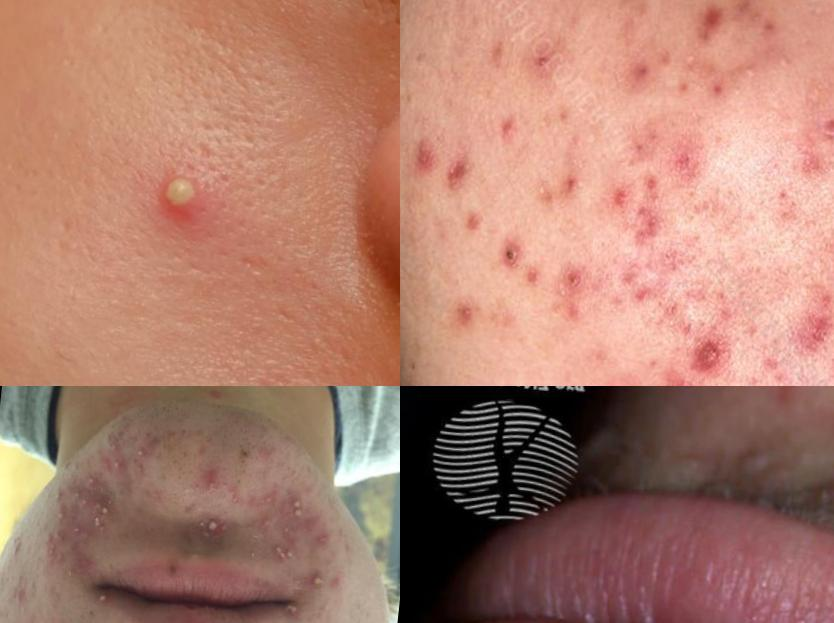papular: (597, 138, 732, 314), (518, 33, 570, 91), (761, 387, 834, 428), (791, 296, 834, 361), (683, 326, 736, 371), (436, 151, 475, 203), (809, 457, 834, 535), (556, 260, 594, 309), (409, 132, 442, 177), (493, 236, 525, 276), (654, 371, 717, 387), (328, 562, 357, 594), (77, 544, 100, 573), (255, 481, 280, 507), (201, 471, 226, 496)
purulent: (139, 149, 221, 239), (83, 578, 134, 611), (264, 536, 306, 565), (284, 495, 313, 527), (89, 502, 117, 532), (308, 564, 332, 598), (201, 513, 228, 540), (43, 532, 67, 562), (70, 483, 94, 512), (281, 598, 306, 621), (192, 509, 211, 537), (109, 454, 133, 472), (128, 461, 149, 480), (55, 508, 71, 527), (135, 443, 150, 461), (54, 491, 69, 506), (72, 524, 86, 540)
whitehead: (675, 34, 712, 87), (741, 55, 767, 89), (535, 177, 557, 202), (780, 54, 791, 69), (653, 197, 662, 206)
